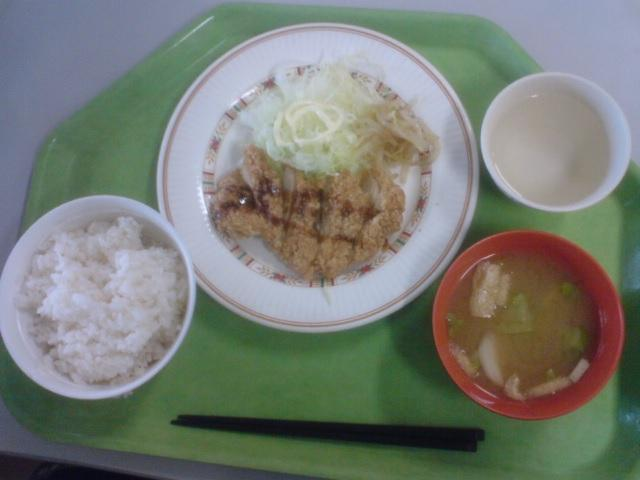rice: (15, 217, 187, 385)
